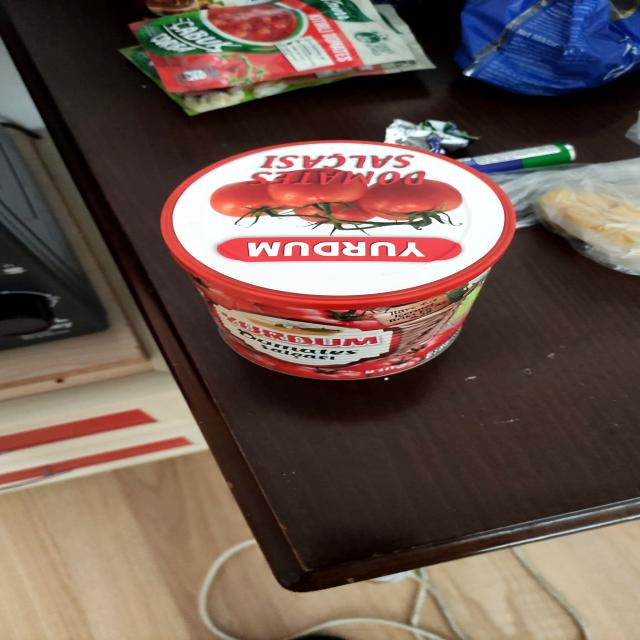tomato paste: (161, 132, 514, 386)
